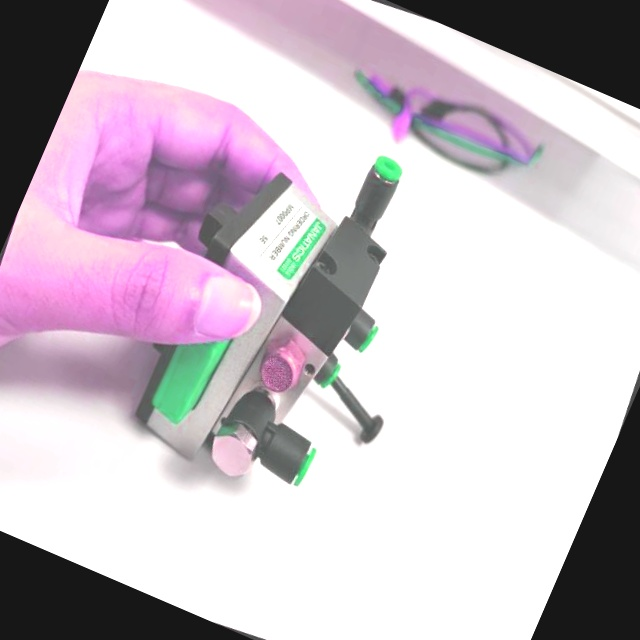5by2 DCV: (85, 65, 509, 550)
